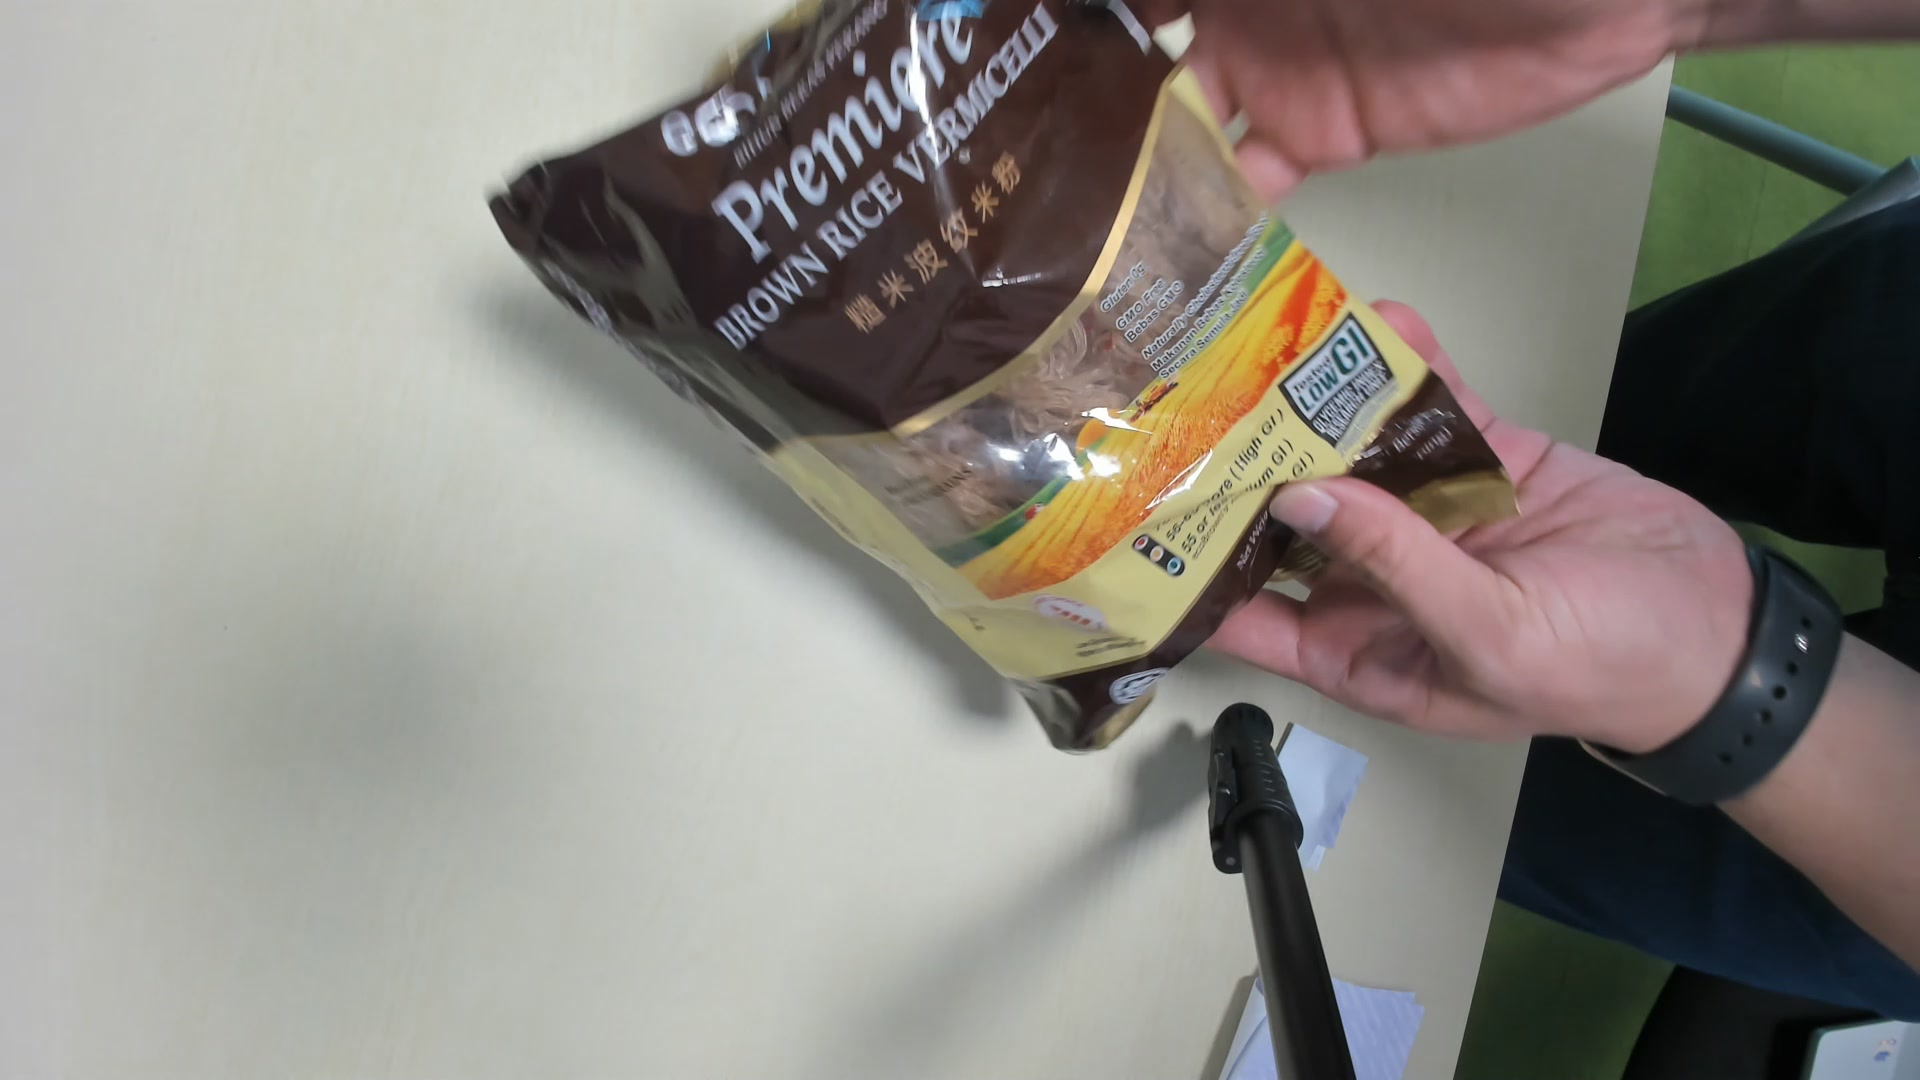BeeHoonVermicelli_300-399g_Halal_Healthy: (487, 3, 1520, 731)
